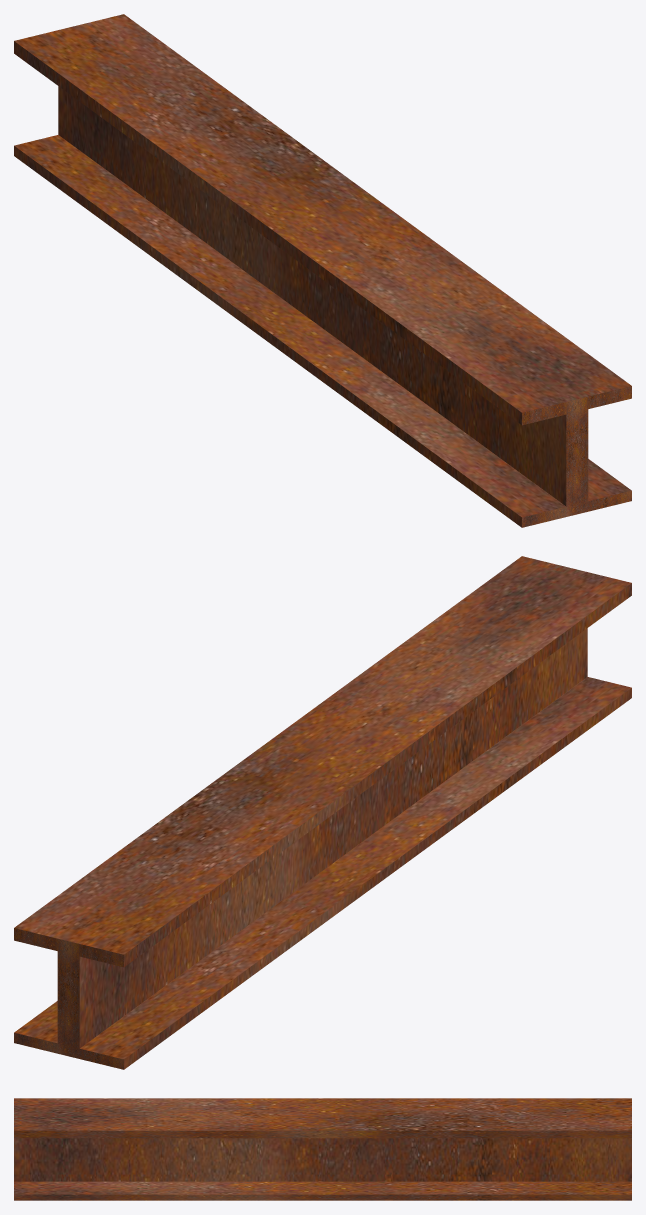
Rendered from viga.FBX.
3 renders of one model, top to bottom at view 1: azimuth 30°, elevation 25°; view 2: azimuth 150°, elevation 25°; view 3: azimuth 270°, elevation 25°, orthographic. The views are drawn at different scales.
Visible parts, largest first — view 1: Box002; view 2: Box002; view 3: Box002.
Part boxes in pixels (left/top/right/bottom): Box002: left=14, top=14, right=631, bottom=527; Box002: left=14, top=556, right=631, bottom=1069; Box002: left=14, top=1098, right=631, bottom=1200.
Bounding box in the file's own units: 25 × 25 × 200.
